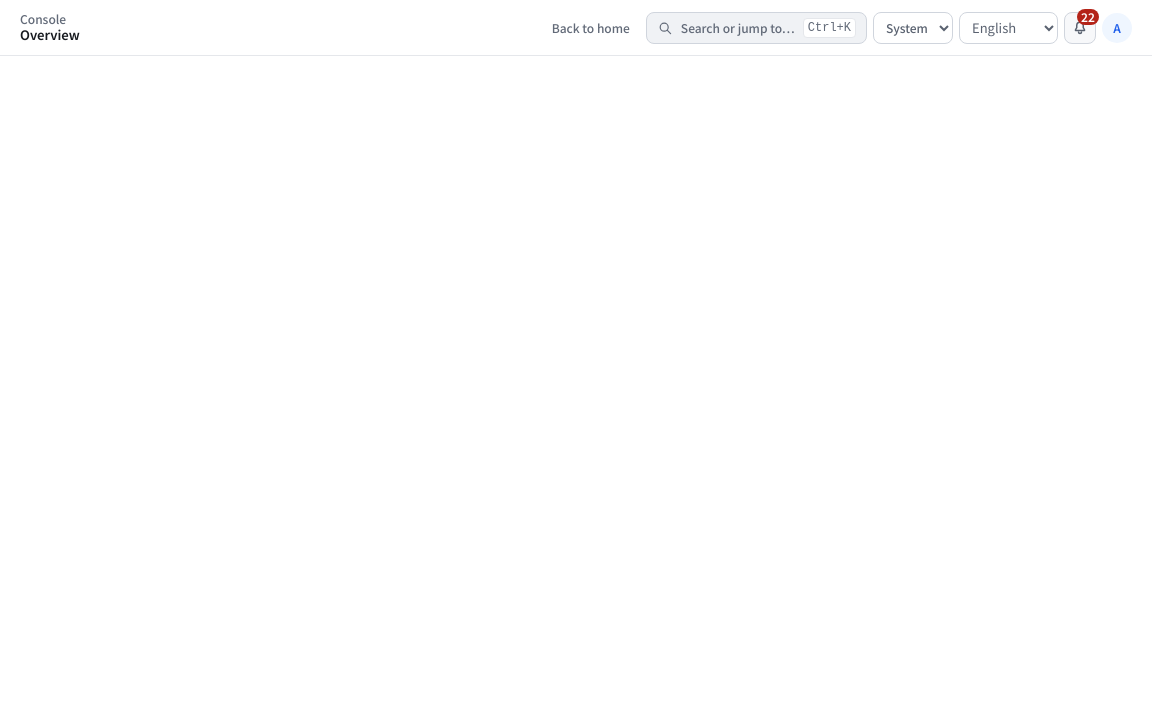
Test: console notification bell › lists notifications with title and summary, never the Markdown body
Click the button named "Notifications". click: (1080,28)
box: left=1064, top=12, right=1096, bottom=44
(page scrolled)
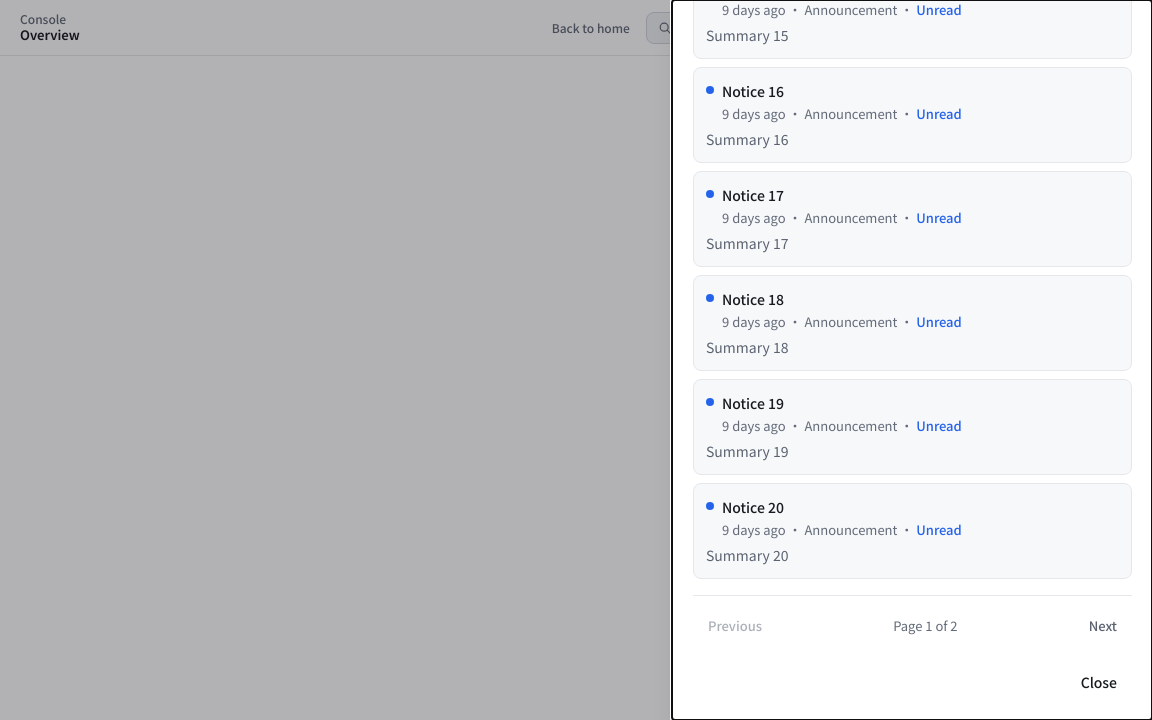
Check: the text "Notice 21" is not shown
Check: the text "Page 1 of 2" is shown, box left=893, top=616, right=958, bottom=636
Click the button "Next". click: (1103,626)
box: left=1074, top=608, right=1132, bottom=644
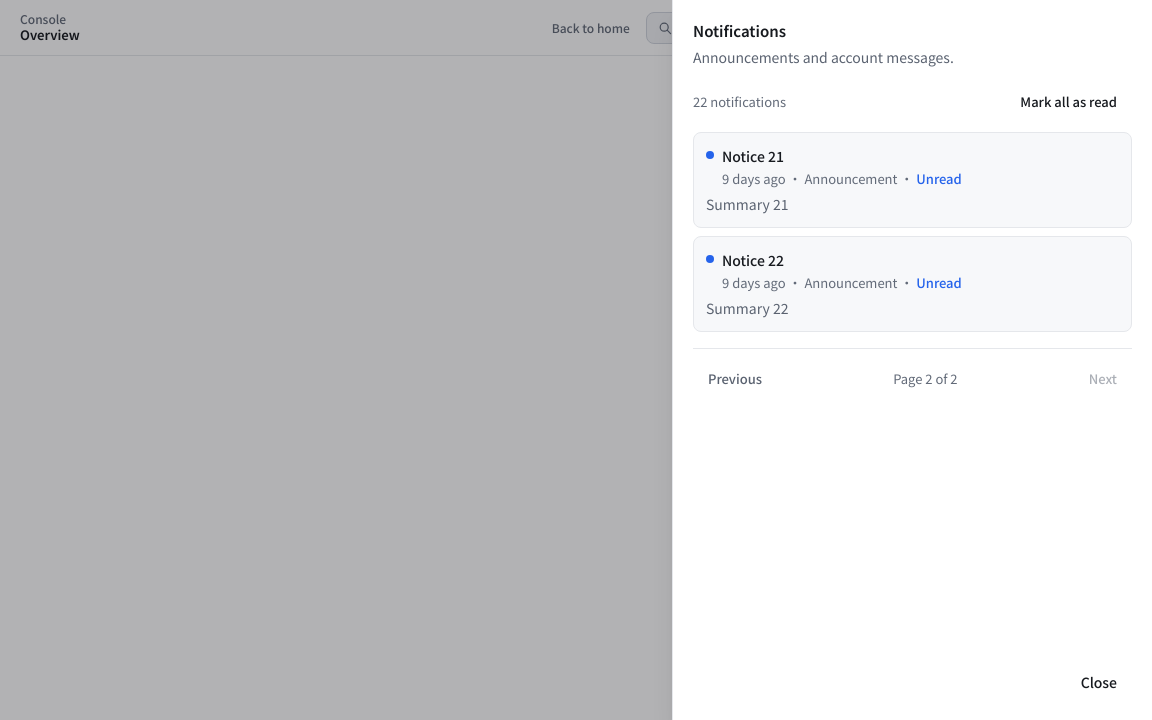
Check: the text "Notice 21" is shown, box left=722, top=146, right=784, bottom=166
Check: the text "Page 2 of 2" is shown, box left=893, top=369, right=958, bottom=389
